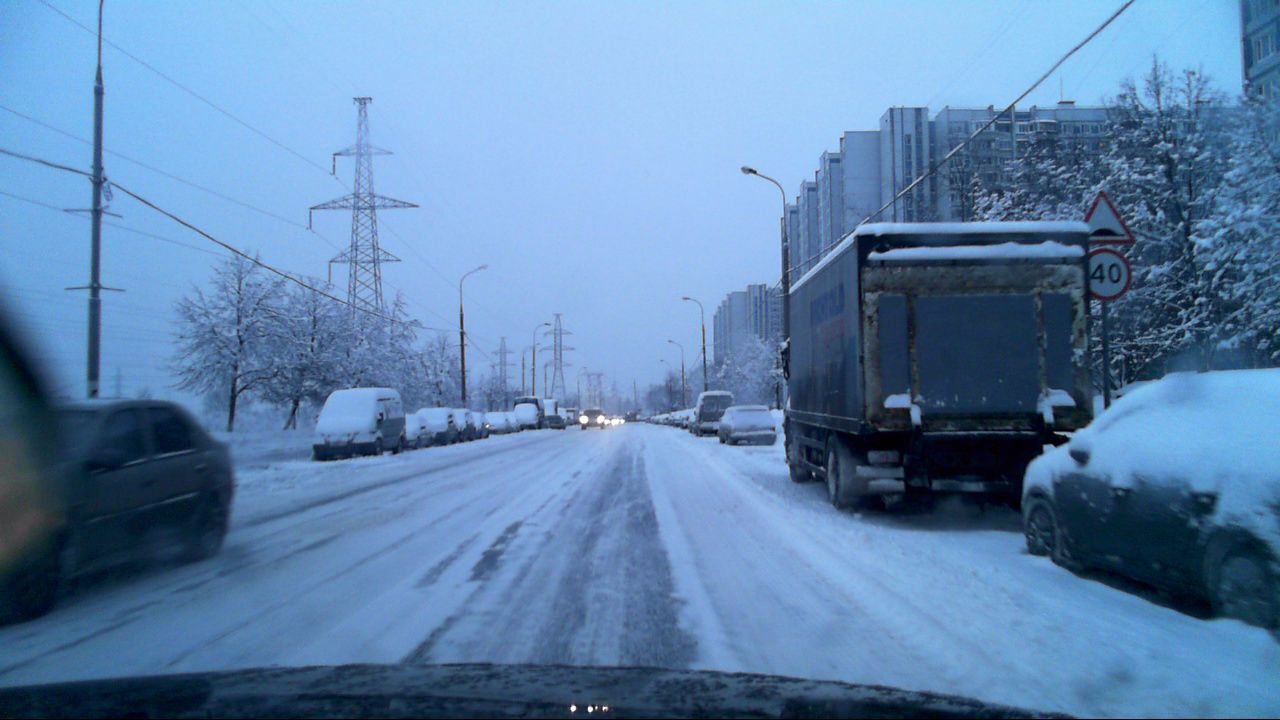speed_warning_40: (1082, 249, 1134, 298)
